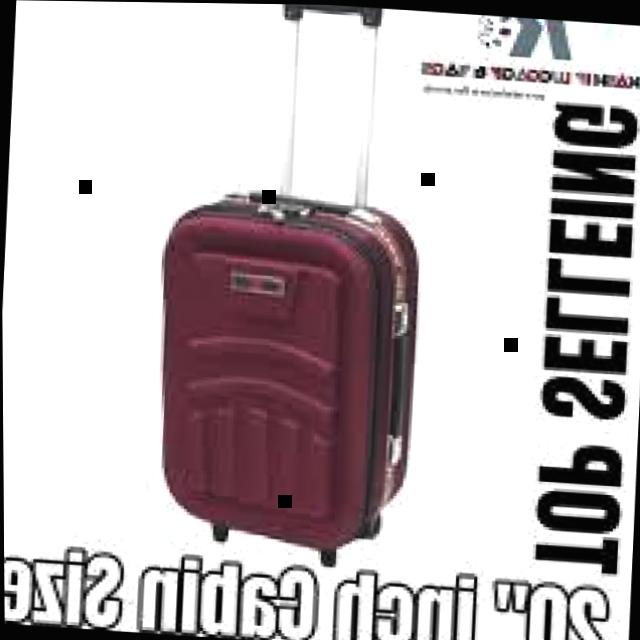luggage: (141, 177, 433, 555)
